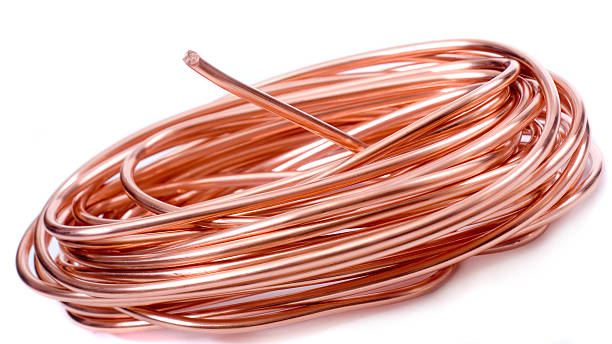Nonrec_Tangler: (14, 22, 592, 329)
